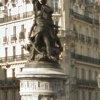Statue: (24, 1, 66, 79)
